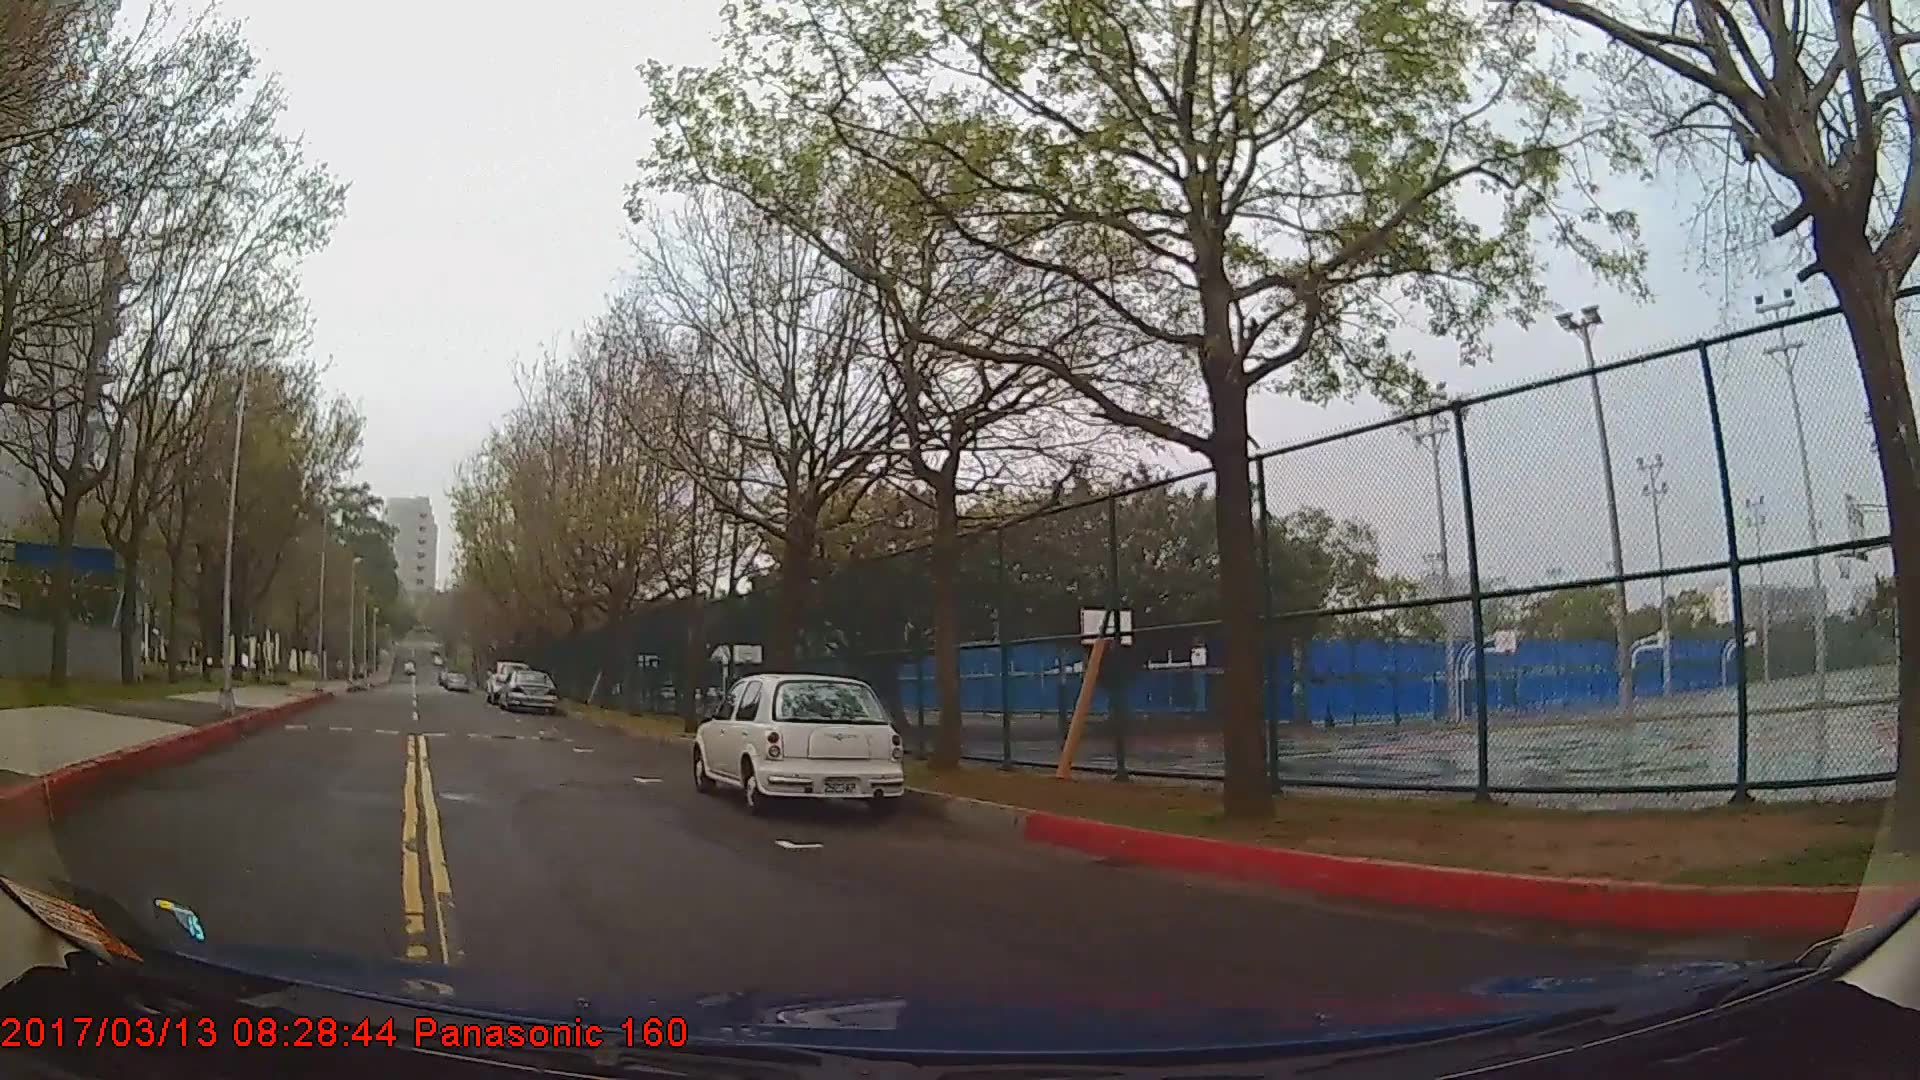vehicle: (688, 670, 905, 811), (496, 665, 556, 709)
